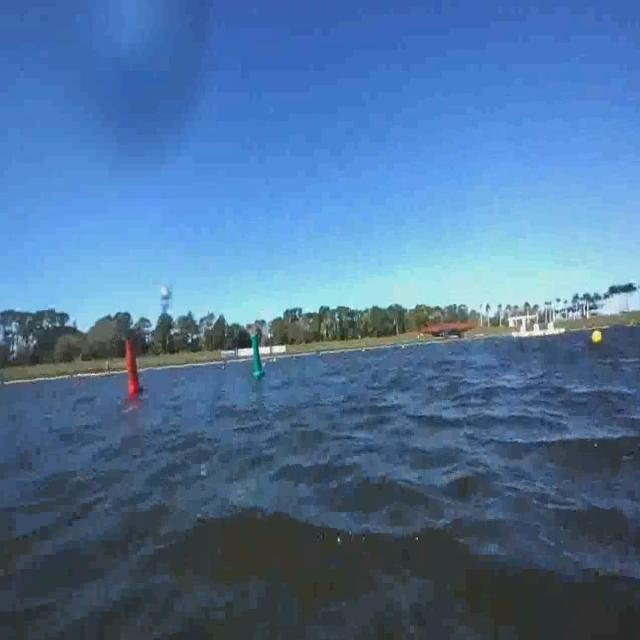green-column-buoy: (247, 330, 268, 381)
red-column-buoy: (119, 326, 148, 408)
